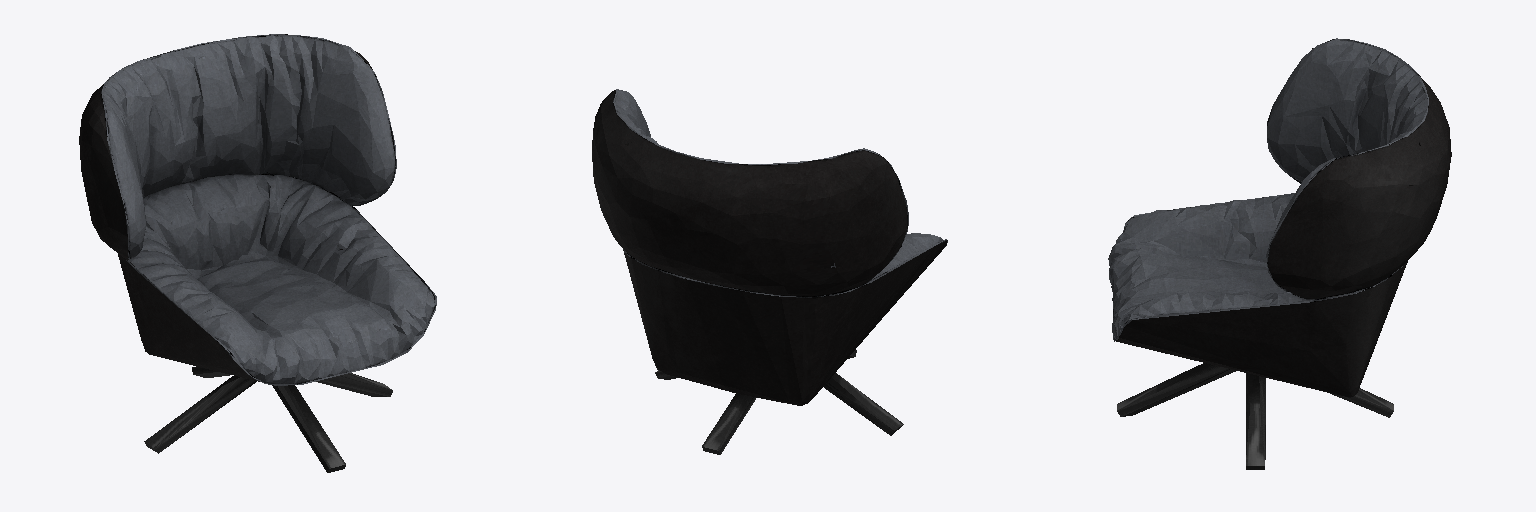
The picture shows the model from 3 angles: view 1: azimuth 30°, elevation 25°; view 2: azimuth 150°, elevation 25°; view 3: azimuth 270°, elevation 25°; orthographic projection.
Parts seen in each view (by area): view 1: raw_model_simplified; view 2: raw_model_simplified; view 3: raw_model_simplified.
Boxes of the visible parts, box(x1,y1,x2,y2) form: raw_model_simplified: box(79, 34, 436, 472); raw_model_simplified: box(592, 89, 947, 454); raw_model_simplified: box(1108, 38, 1451, 469).
Bounding box in the file's own units: 0.8594 × 0.9278 × 0.9087.
1 materials, 1 textured.